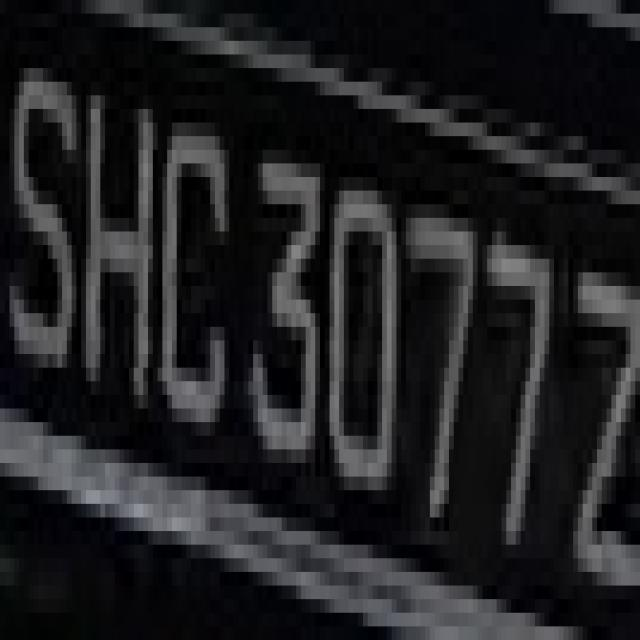0: (320, 122, 411, 518)
3: (243, 82, 324, 504)
7: (468, 163, 549, 572), (387, 163, 477, 531)
B: (153, 82, 229, 463)
H: (72, 41, 162, 463)
S: (10, 14, 86, 408)
Z: (544, 204, 640, 613)
